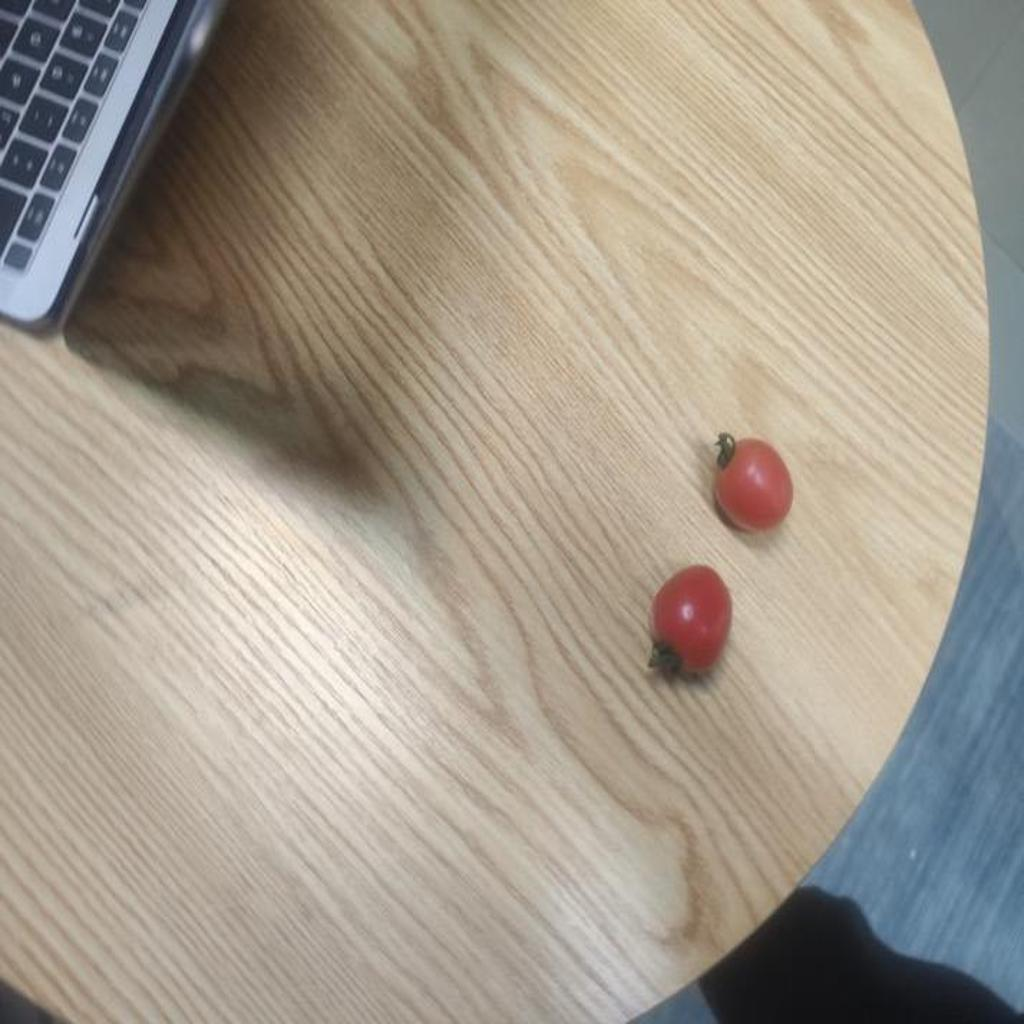tomato: (644, 557, 745, 686), (708, 437, 801, 534)
